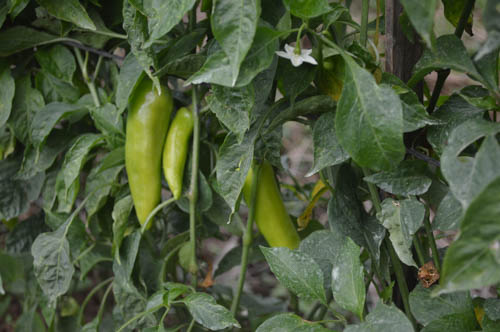ChiliPepper: (124, 78, 168, 231), (242, 157, 300, 255), (165, 105, 196, 204)
